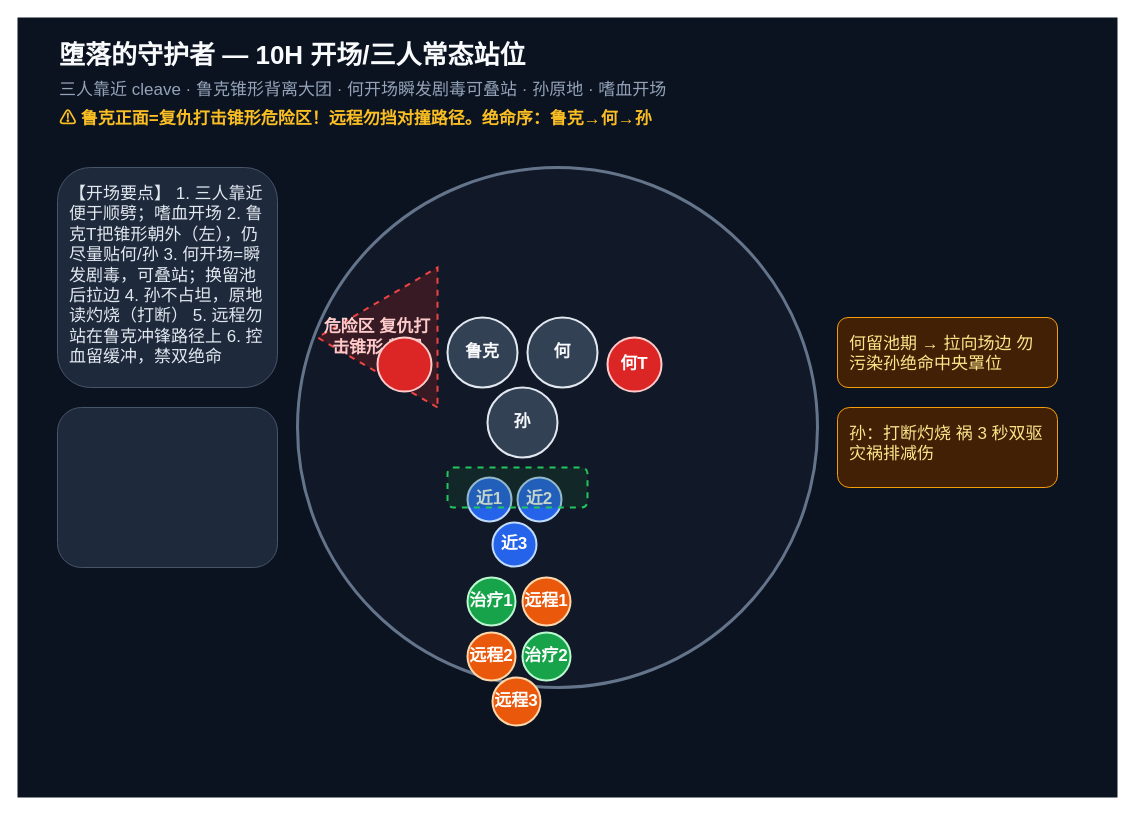
The diagram is 1134 pixels wide and 814 high, and some of its shapes have lost their labels. Here are the shapes that lost their labels. From the top down, the centre of each, then its label:
At [404,364]: "鲁克T".
At [167,487]: "【图例】 ● 红 = 坦克 ● 蓝 = 近战 ● 橙 = 远程 ● 绿 = 治疗 ● 灰 = Boss 三角虚线 = 危险扇区".
At [517,487]: "安全 cleave 堆 (鲁克背后)".
